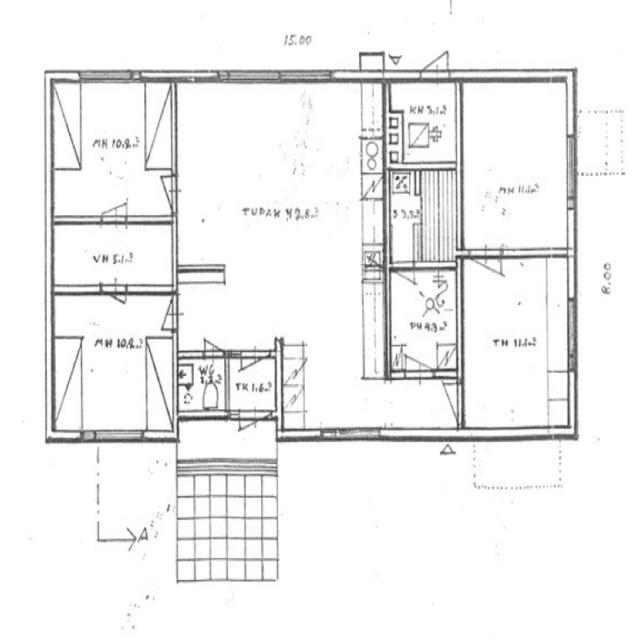door: (101, 187, 131, 229), (398, 356, 435, 389), (419, 49, 453, 82), (230, 407, 261, 441), (157, 169, 180, 214), (161, 304, 182, 340), (201, 335, 227, 363)
window: (217, 66, 342, 89), (394, 356, 441, 389), (77, 65, 139, 88)
zone: (175, 69, 386, 339), (459, 75, 574, 258), (459, 254, 575, 435), (49, 286, 175, 442), (47, 76, 176, 226), (387, 265, 458, 379), (385, 79, 461, 169), (226, 351, 278, 421), (176, 356, 228, 416)
